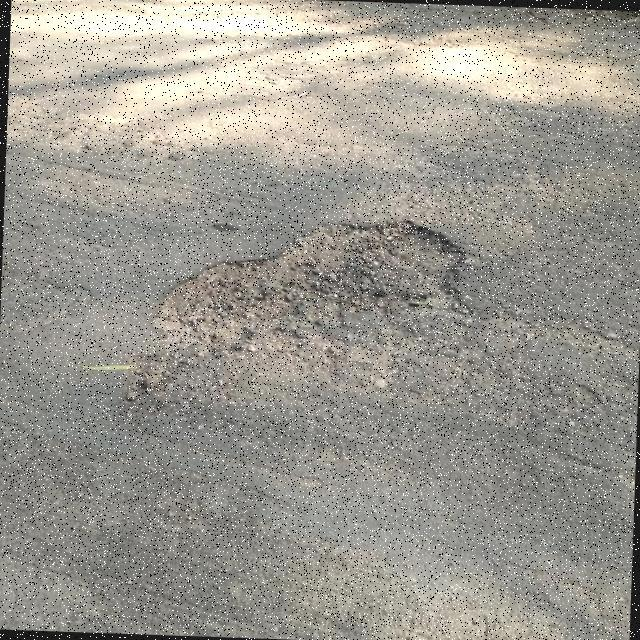Pothole: (131, 217, 473, 395)
